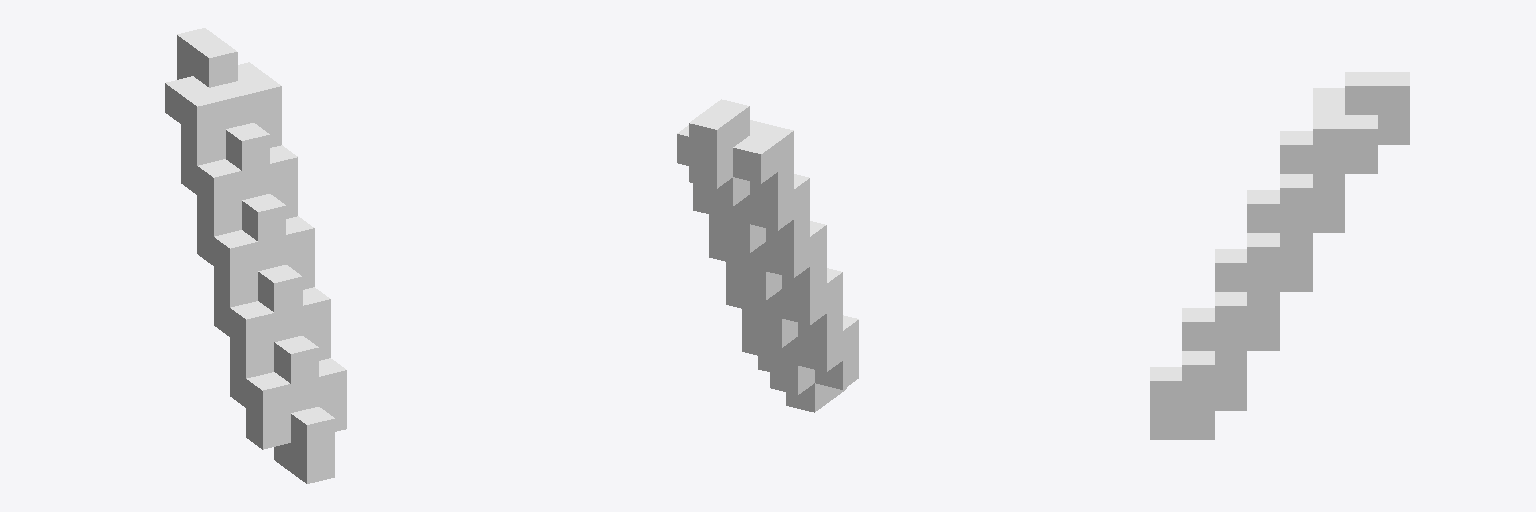
The model's file is Enemy1-7.obj.
3 renders of one model, left to right at view 1: azimuth 30°, elevation 25°; view 2: azimuth 150°, elevation 25°; view 3: azimuth 270°, elevation 25°, orthographic.
Parts seen in each view (by area): view 1: object 1; view 2: object 1; view 3: object 1.
Part boxes in pixels (left/top/right/bottom): object 1: left=165, top=28, right=346, bottom=483; object 1: left=677, top=99, right=858, bottom=412; object 1: left=1150, top=72, right=1409, bottom=439.
Size of the model in its own units: 0.3 by 1.2 by 0.8.